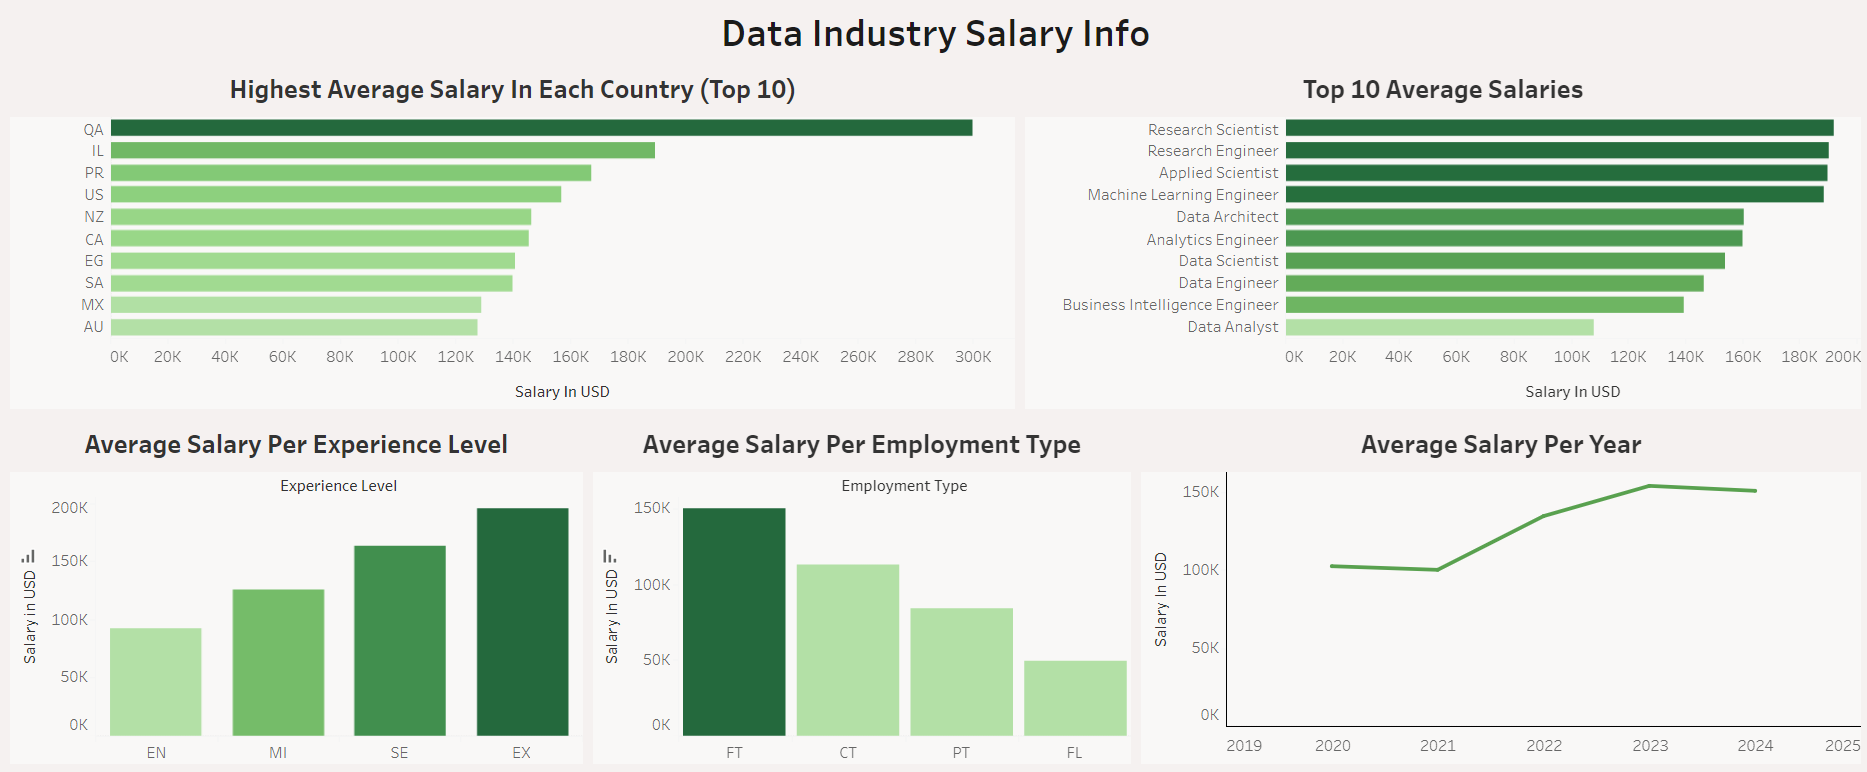

What the dashboard file says about the page in this screenshot:
{"tool":"tableau","page":{"name":"Dashboard 1","canvas":[1000,1000],"units":"permille","ordinal":0},"visuals":[{"type":"text","box":[4.8,8.8,990.3,68]},{"type":"worksheet","title":"AVG Salary Per Country","mark":"Automatic","rows":["company_location"],"cols":["salary_in_usd"],"box":[4.8,76.8,490,456.7]},{"type":"worksheet","title":"Top 10 Average Salaries","mark":"Automatic","rows":["job_title"],"cols":["salary_in_usd"],"box":[494.9,76.8,500.3,456.7]},{"type":"worksheet","title":"AVG Salary Per Level","mark":"Automatic","rows":["salary_in_usd"],"cols":["experience_level"],"box":[4.8,533.5,330.7,457.7]},{"type":"worksheet","title":"Sheet 5","mark":"Automatic","rows":["salary_in_usd"],"cols":["employment_type"],"box":[335.6,533.5,399.5,457.7]},{"type":"worksheet","title":"AVG Salary Per Year In The Industry","mark":"Line","rows":["salary_in_usd"],"cols":["work_year"],"box":[735.1,533.5,260.1,457.7]}]}

Visuals, with their boxes on the dashboard's canvas, which has no fixed pixel size, in thousandths of its width and height (x1, y1, x2, y2). These are canvas units, not pixel positions in the 1867x772 screenshot, which may show the page scaled, cropped or inside an application window:
text: 5/9/995/77
"AVG Salary Per Country" worksheet: 5/77/495/534
"Top 10 Average Salaries" worksheet: 495/77/995/534
"AVG Salary Per Level" worksheet: 5/534/336/991
"Sheet 5" worksheet: 336/534/735/991
"AVG Salary Per Year In The Industry" worksheet (Line marks): 735/534/995/991
